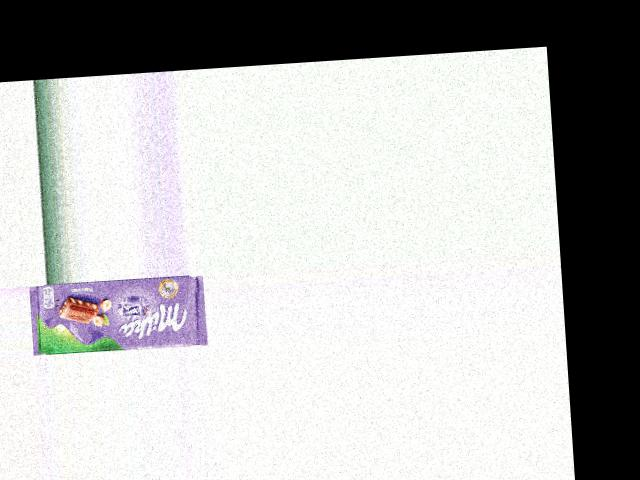chocolate: (28, 273, 207, 355)
